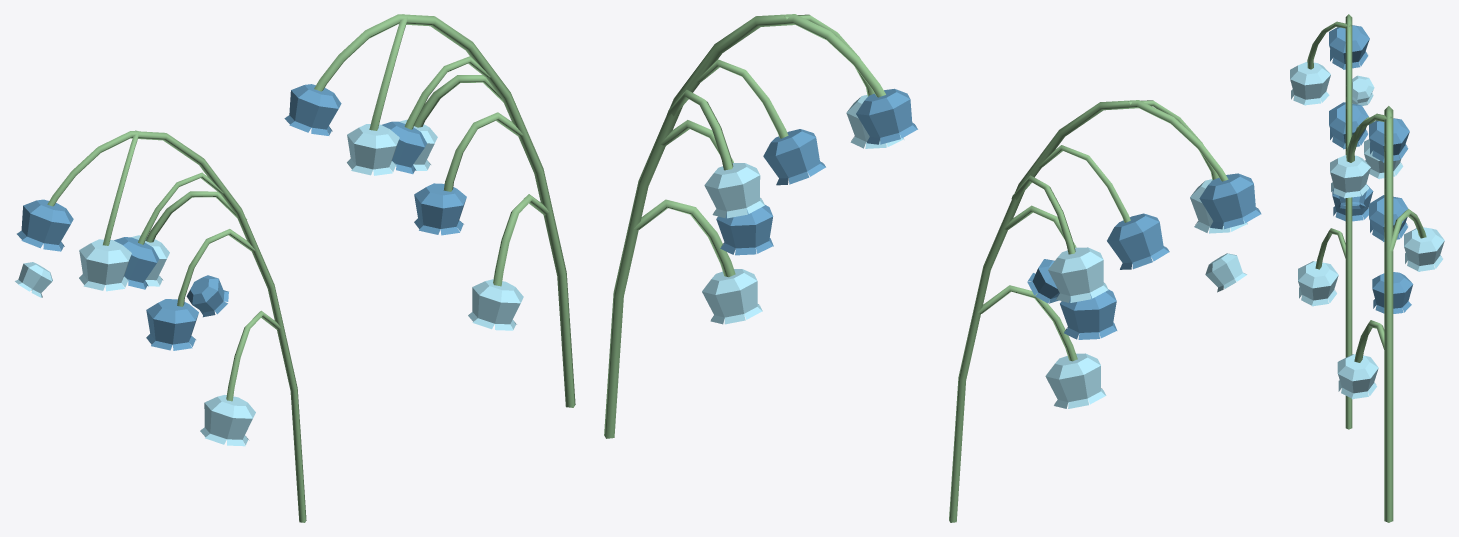
File: lily.glb
3 renders of one model, left to right at view 1: azimuth 30°, elevation 25°; view 2: azimuth 150°, elevation 25°; view 3: azimuth 270°, elevation 25°, orthographic. The views are drawn at different scales.
Parts seen in each view (by area): view 1: BézierCurve.001, BézierCurve, Circle; view 2: BézierCurve.001, Circle, BézierCurve; view 3: BézierCurve.001, Circle, BézierCurve.
Boxes of the visible parts, x1,y1,x2,y2 form: BézierCurve.001: [15, 130, 306, 522]; BézierCurve: [314, 14, 575, 407]; Circle: [284, 84, 523, 330]; BézierCurve.001: [949, 100, 1261, 522]; Circle: [702, 88, 917, 324]; BézierCurve: [604, 14, 885, 438]; BézierCurve.001: [1290, 14, 1403, 429]; Circle: [1330, 118, 1444, 399]; BézierCurve: [1346, 106, 1426, 522].
Bounding box in the file's own units: 9.6 × 7.24 × 2.8.
